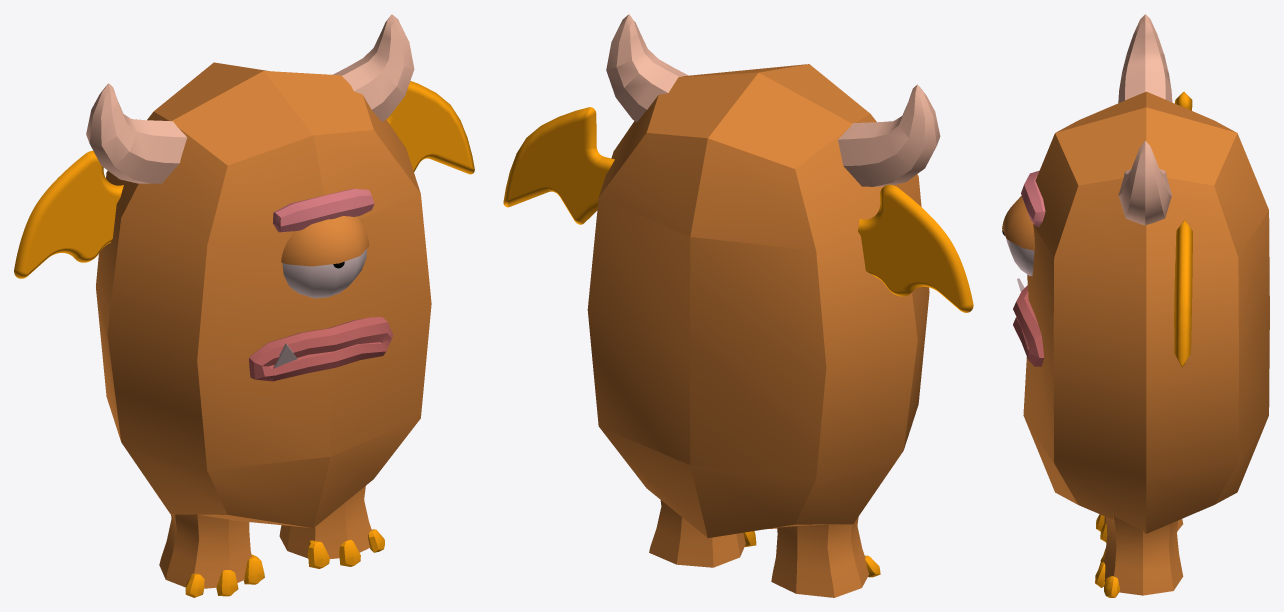
The model's file is elf1.glb.
3 renders of one model, left to right at view 1: azimuth 30°, elevation 25°; view 2: azimuth 150°, elevation 25°; view 3: azimuth 270°, elevation 25°, orthographic. The views are drawn at different scales.
Visible parts, largest first — view 1: body, wing (×2), horn (×2), feet (×2), mouth, eyelid, eyebrow, eye; view 2: body, wing (×2), horn (×2), feet (×2); view 3: body, horn (×2), feet, wing, mouth, eyelid, eyebrow, eye.
Boxes of the visible parts, left/top/right/bottom form: body: left=96, top=62, right=431, bottom=528; wing (×2): left=14, top=81, right=474, bottom=278; horn (×2): left=86, top=14, right=414, bottom=183; feet (×2): left=159, top=486, right=371, bottom=588; mouth: left=249, top=317, right=393, bottom=381; eyelid: left=281, top=216, right=369, bottom=266; eyebrow: left=273, top=188, right=374, bottom=232; eye: left=282, top=249, right=367, bottom=298; body: left=587, top=64, right=929, bottom=537; wing (×2): left=503, top=107, right=973, bottom=312; horn (×2): left=606, top=14, right=940, bottom=186; feet (×2): left=649, top=500, right=869, bottom=597; body: left=1023, top=91, right=1269, bottom=533; horn (×2): left=1118, top=14, right=1172, bottom=225; feet: left=1104, top=516, right=1183, bottom=595; wing: left=1174, top=220, right=1192, bottom=367; mouth: left=1013, top=285, right=1044, bottom=366; eyelid: left=1002, top=196, right=1034, bottom=250; eyebrow: left=1021, top=170, right=1045, bottom=227; eye: left=1006, top=239, right=1034, bottom=275.
Bounding box in the file's own units: 3.76 × 4.05 × 2.07.
